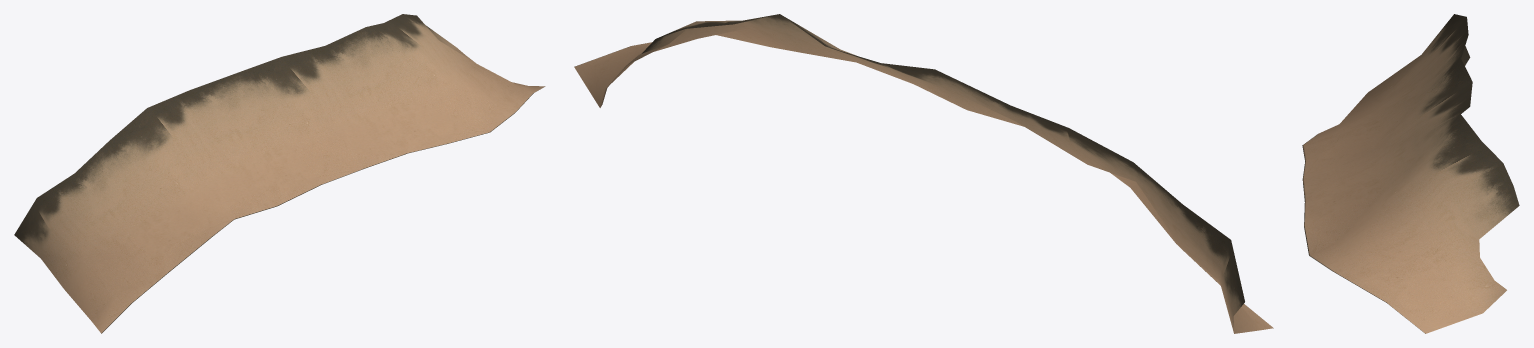
File: plane_wreckage_sanddune.dae
The picture shows the model from 3 angles, left to right: view 1: azimuth 30°, elevation 25°; view 2: azimuth 150°, elevation 25°; view 3: azimuth 270°, elevation 25°; orthographic projection. The views are drawn at different scales.
Parts seen in each view (by area): view 1: Mesh__2_; view 2: Mesh__2_; view 3: Mesh__2_.
Boxes of the visible parts, <box> form: Mesh__2_: <box>14,14,545,333</box>; Mesh__2_: <box>574,14,1273,333</box>; Mesh__2_: <box>1302,14,1519,333</box>.
Bounding box in the file's own units: 17.52 × 6.28 × 4.98.
1 material, 1 textured.
